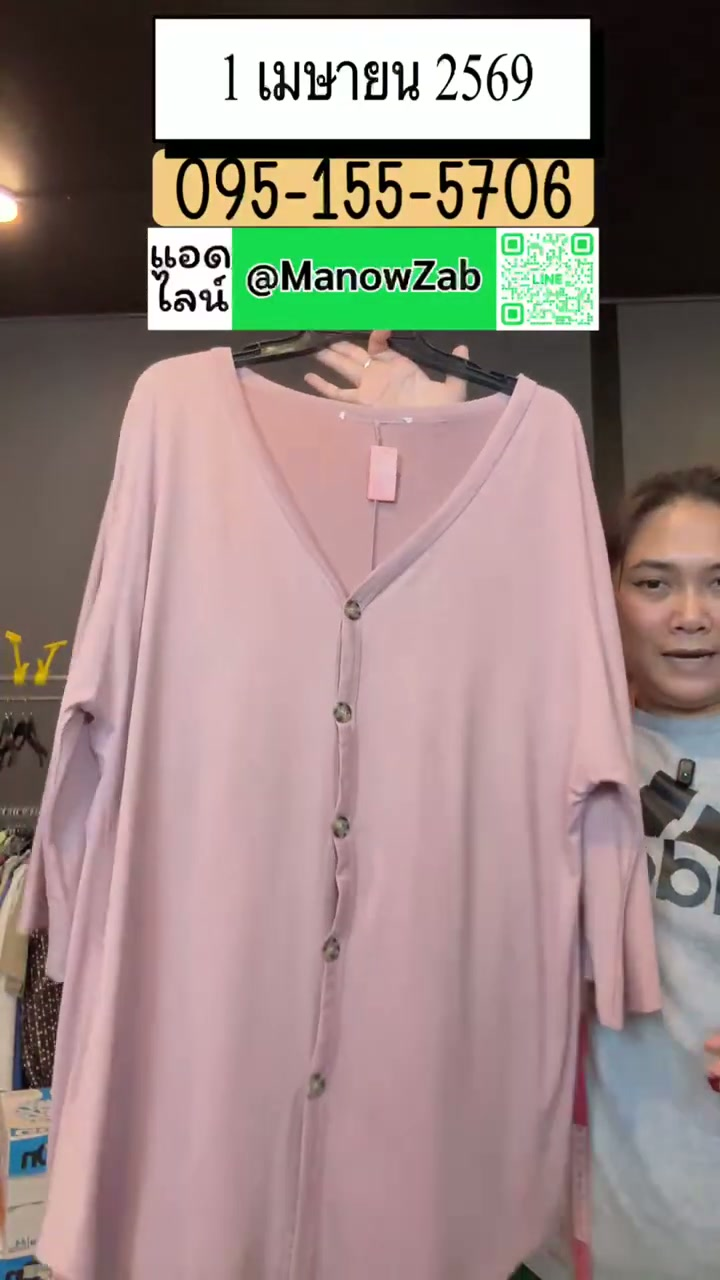display_shirt: (24, 348, 660, 1279)
